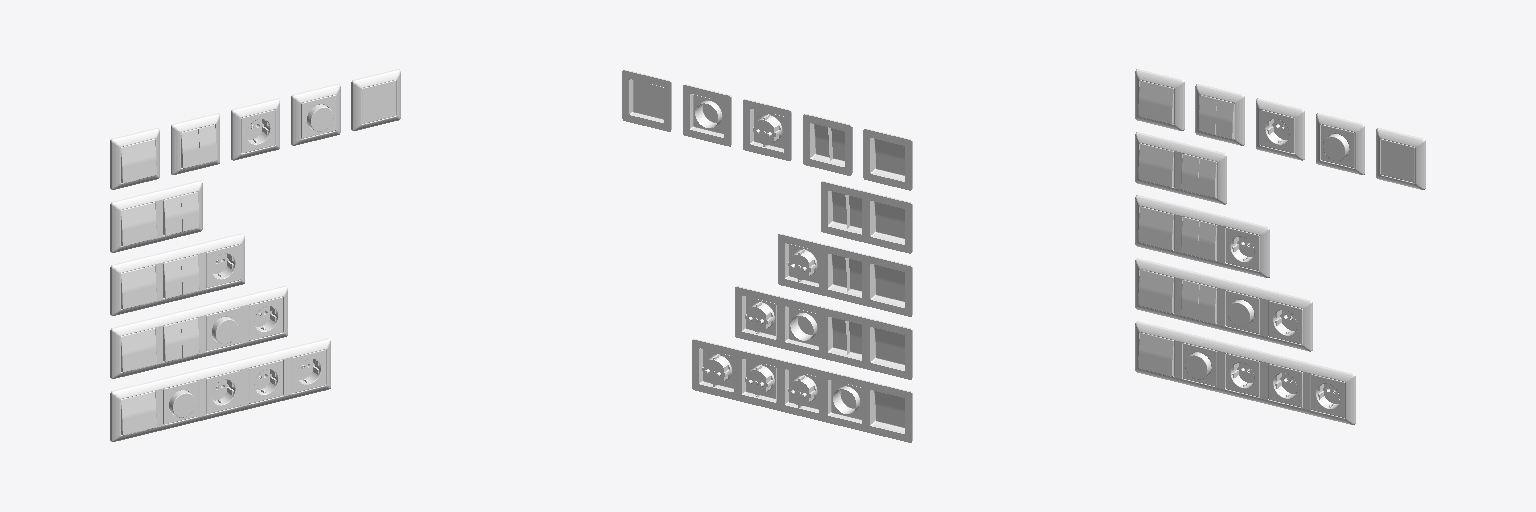
The picture shows the model from 3 angles: view 1: azimuth 30°, elevation 25°; view 2: azimuth 150°, elevation 25°; view 3: azimuth 330°, elevation 25°; orthographic projection.
Visible parts, largest first — view 1: 开关; view 2: 开关; view 3: 开关.
Boxes of the visible parts, box(x1,y1,x2,y2) form: 开关: box(110, 69, 400, 441); 开关: box(622, 70, 912, 442); 开关: box(1135, 69, 1425, 424).
Bounding box in the file's own units: 1.61 × 1.61 × 0.1173.